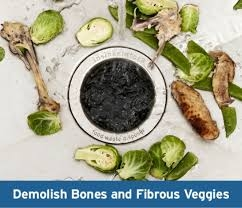kitchen_waste: (1, 19, 61, 112), (169, 75, 223, 145), (130, 8, 182, 69), (132, 28, 198, 73), (209, 46, 239, 138), (173, 39, 218, 88), (71, 140, 124, 174), (27, 6, 67, 45), (73, 12, 114, 48), (24, 108, 65, 137), (117, 147, 151, 180), (165, 150, 201, 180), (157, 132, 188, 165), (147, 137, 171, 179), (178, 2, 202, 32), (107, 2, 124, 21)
